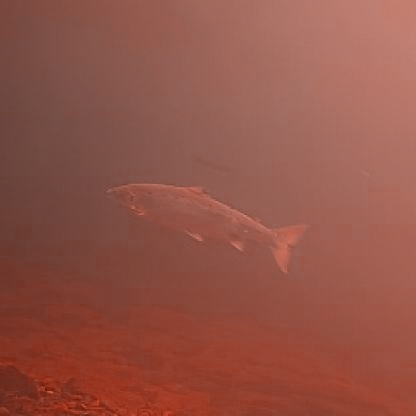salmon: (101, 173, 310, 274)
